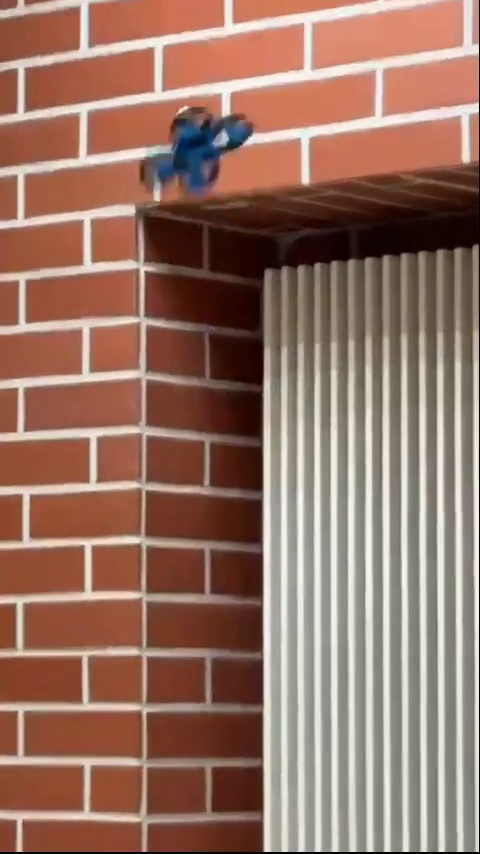drone: (144, 103, 254, 199)
